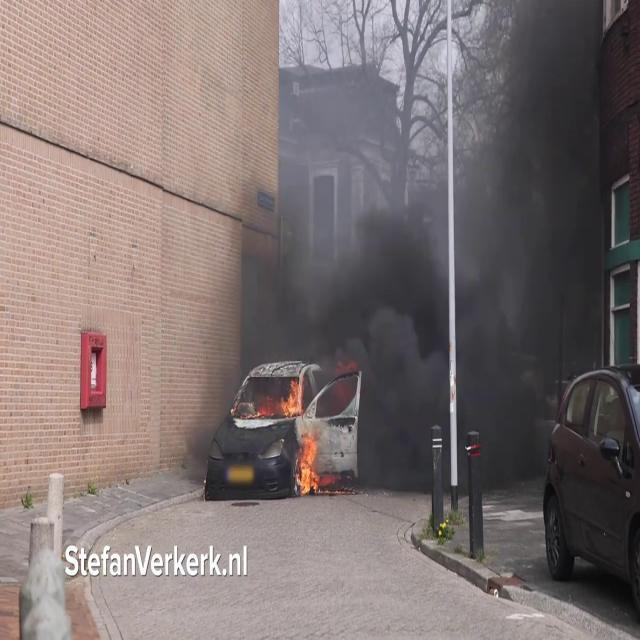Fire: (291, 418, 325, 496), (281, 376, 305, 420)
Smoke: (243, 13, 613, 419)
